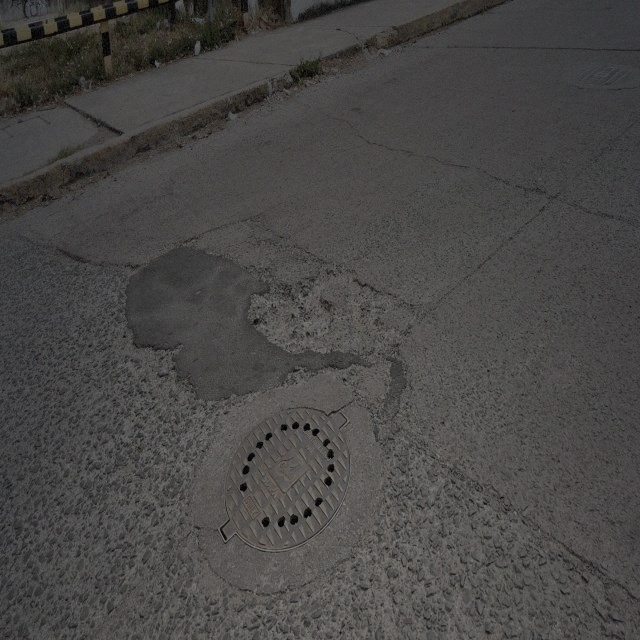pothole: (245, 258, 421, 367), (119, 260, 143, 275)
